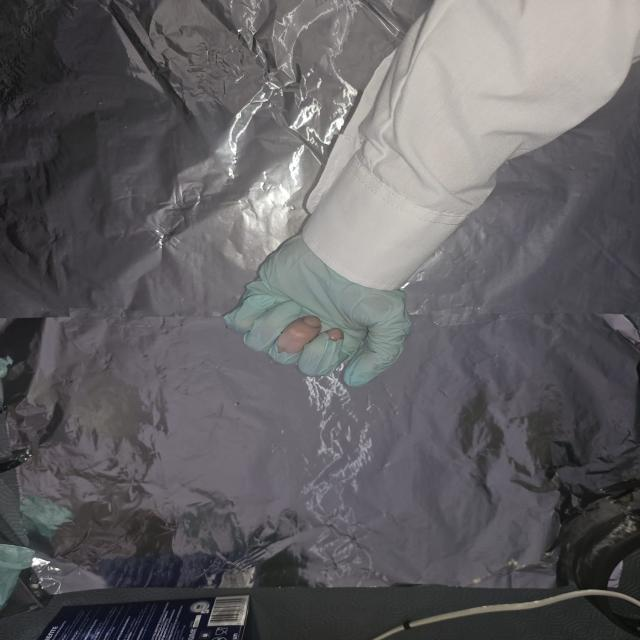gloves_damaged: (219, 232, 411, 386)
